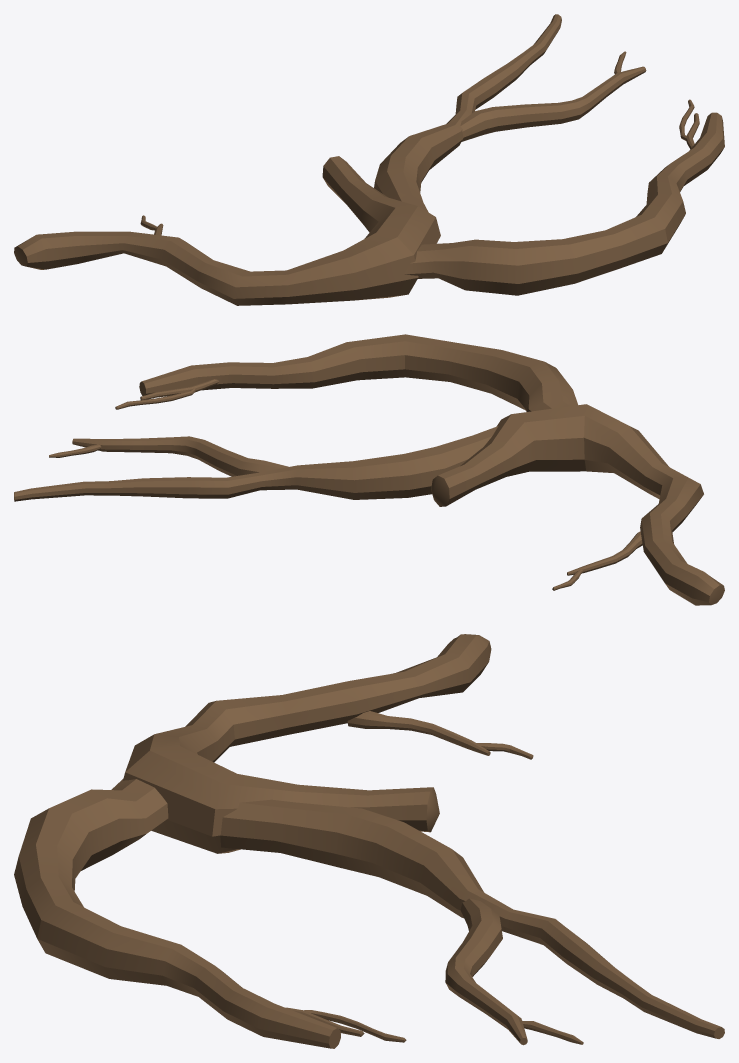
3 renders of one model, top to bottom at view 1: azimuth 30°, elevation 25°; view 2: azimuth 150°, elevation 25°; view 3: azimuth 270°, elevation 25°, orthographic. The views are drawn at different scales.
Visible parts, largest first — view 1: pasted__pasted__pasted__pasted__pasted__pasted__pasted__past (×4); view 2: pasted__pasted__pasted__pasted__pasted__pasted__pasted__past (×7); view 3: pasted__pasted__pasted__pasted__pasted__pasted__pasted__past (×6).
Part boxes in pixels (x1,y1,x2,y2): pasted__pasted__pasted__pasted__pasted__pasted__pasted__past (×4): (14, 14, 724, 305); pasted__pasted__pasted__pasted__pasted__pasted__pasted__past (×7): (14, 334, 724, 605); pasted__pasted__pasted__pasted__pasted__pasted__pasted__past (×6): (14, 634, 724, 1048).
Size of the model in its own units: 57.36 by 5.24 by 40.98.
